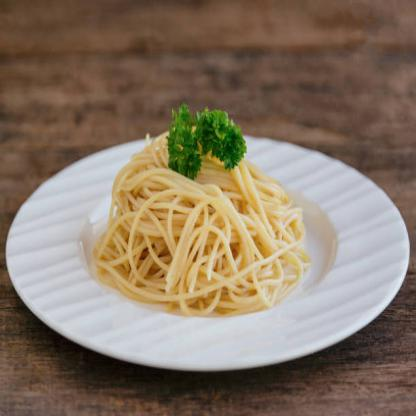Noodles: (90, 124, 310, 322)
